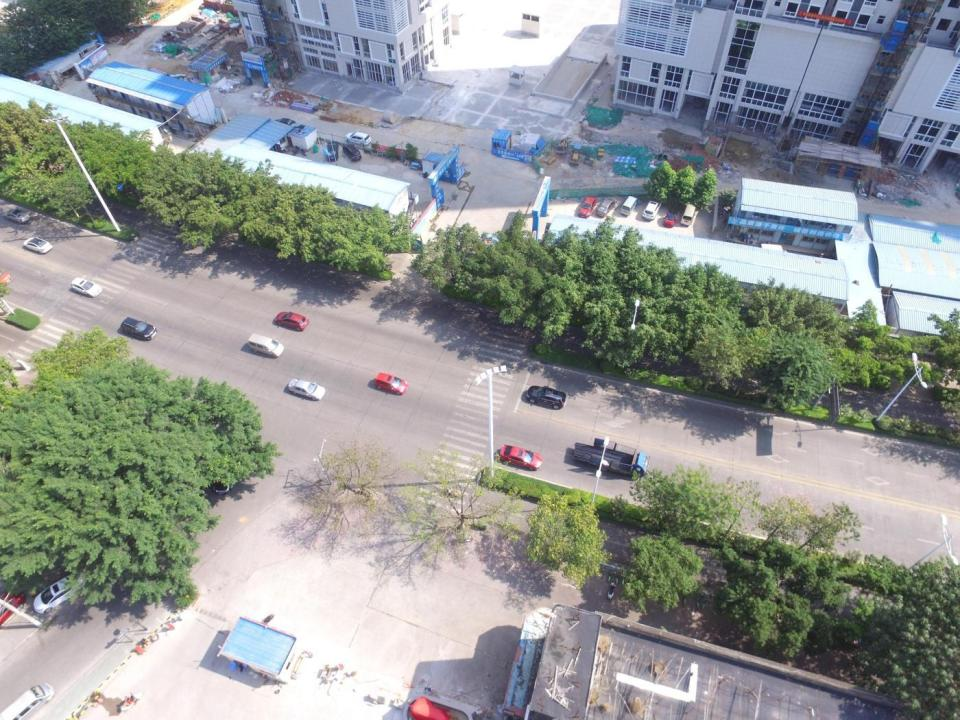car: (32, 573, 86, 614), (0, 682, 55, 720), (500, 444, 542, 471), (0, 589, 26, 628), (525, 386, 567, 410), (248, 333, 285, 358), (287, 378, 326, 401), (121, 317, 157, 341), (374, 372, 409, 396), (275, 312, 309, 332), (70, 277, 101, 298), (595, 195, 617, 218), (22, 237, 52, 253), (578, 195, 597, 219), (3, 209, 31, 224), (642, 199, 662, 220), (346, 131, 372, 146), (342, 145, 361, 161), (212, 482, 234, 494), (327, 140, 338, 161), (664, 210, 677, 227), (272, 118, 296, 125)
truck: (572, 437, 648, 480)
van: (620, 195, 638, 216), (680, 204, 696, 227)
